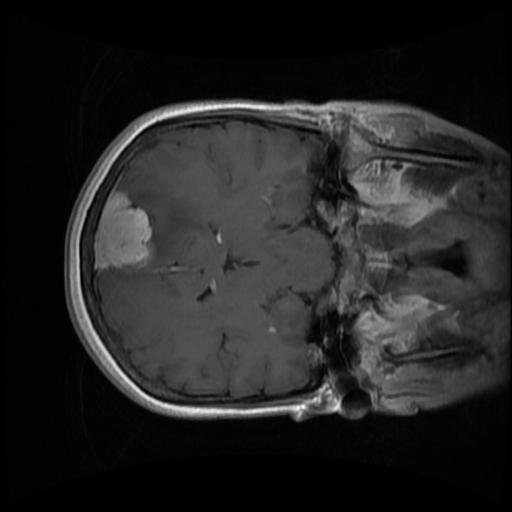meningioma: (92, 188, 152, 274)
